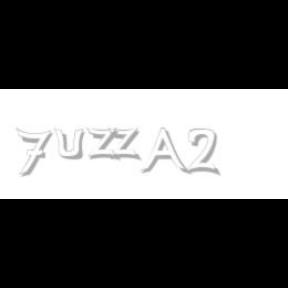2: (185, 128, 219, 176)
7: (16, 128, 52, 178)
A: (140, 128, 188, 176)
u: (54, 128, 88, 160)
z: (86, 128, 122, 160), (107, 128, 143, 160)
